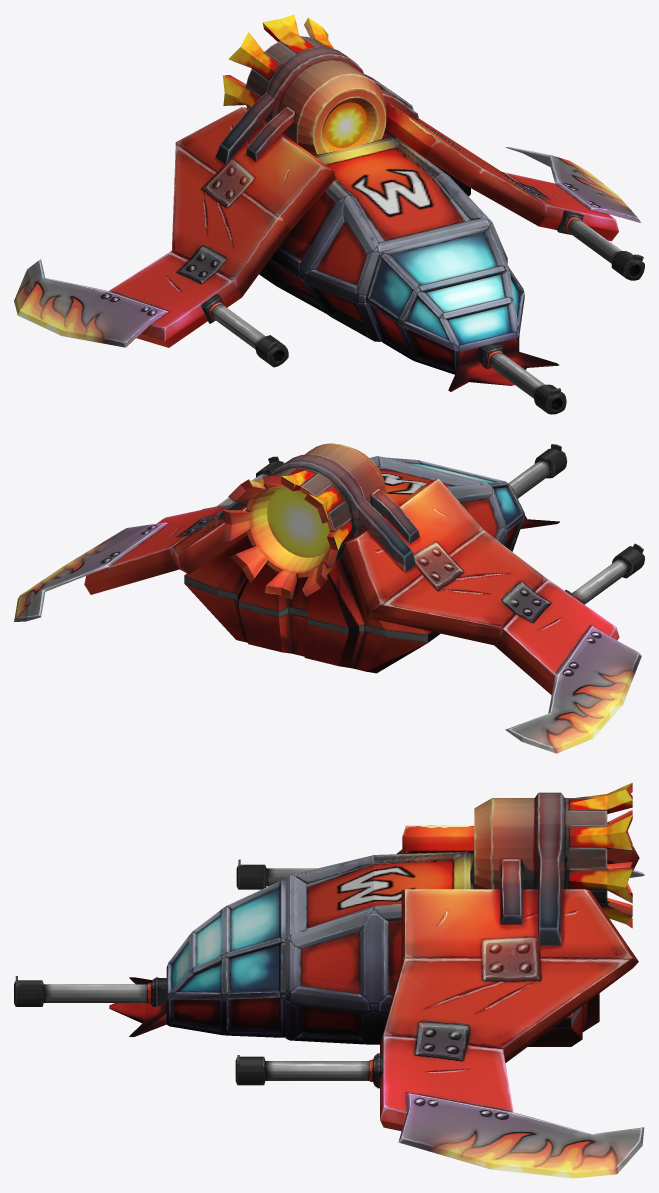
Rendered from orc_ship2.fbx.
3 views of the same model, one above another, from view 1: azimuth 30°, elevation 25°; view 2: azimuth 150°, elevation 25°; view 3: azimuth 270°, elevation 25° (orthographic). The views are drawn at different scales.
Visible parts, largest first — view 1: Cube.003, Cube, Cube.001, Cylinder, Cube.002, Cube.004, Cube.005, Cube.006; view 2: Cube.003, Cube, Cylinder, Cube.002, Cube.001, Cube.006, Cube.004; view 3: Cube.002, Cube, Cylinder, Cube.001, Cube.005, Cube.004, Cube.003, Cube.006.
Part boxes in pixels (x1=…): Cube.003: x1=14, y1=107, x2=335, y2=347; Cube: x1=259, y1=129, x2=507, y2=341; Cube.001: x1=366, y1=226, x2=559, y2=391; Cylinder: x1=216, y1=14, x2=419, y2=164; Cube.002: x1=385, y1=102, x2=640, y2=241; Cube.004: x1=478, y1=342, x2=566, y2=414; Cube.005: x1=556, y1=210, x2=644, y2=280; Cube.006: x1=201, y1=294, x2=288, y2=367; Cube.003: x1=344, y1=478, x2=641, y2=753; Cube: x1=184, y1=456, x2=507, y2=673; Cylinder: x1=215, y1=443, x2=419, y2=599; Cube.002: x1=14, y1=503, x2=247, y2=621; Cube.001: x1=385, y1=457, x2=559, y2=551; Cube.006: x1=565, y1=543, x2=644, y2=604; Cube.004: x1=508, y1=444, x2=567, y2=498; Cube.002: x1=380, y1=889, x2=644, y2=1178; Cube: x1=285, y1=851, x2=599, y2=1046; Cylinder: x1=474, y1=782, x2=632, y2=945; Cube.001: x1=109, y1=880, x2=285, y2=1037; Cube.005: x1=235, y1=1053, x2=383, y2=1088; Cube.004: x1=14, y1=976, x2=166, y2=1006; Cube.003: x1=396, y1=825, x2=644, y2=877; Cube.006: x1=236, y1=859, x2=316, y2=889.
Bounding box in the file's own units: 1282 × 457 × 1098.
